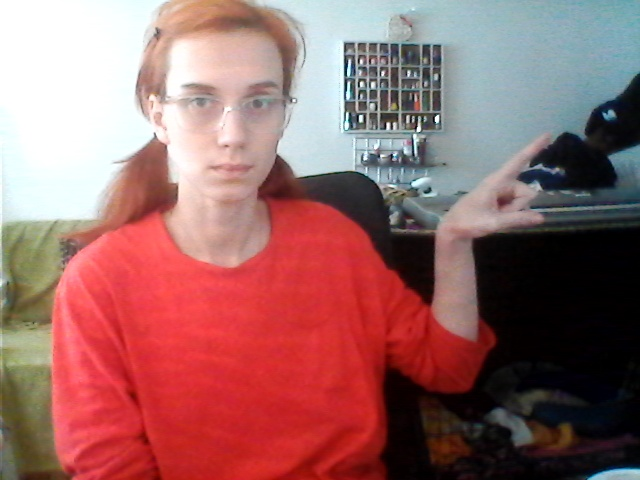on: (400, 128, 568, 398)
